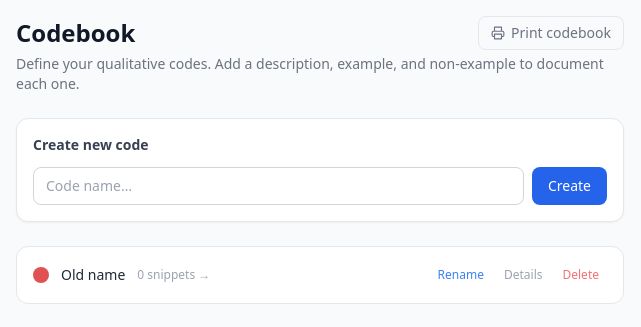
Test: TagManagerView › saves a renamed tag and updates the store
This screenshot has width=641, height=327.
Click the button "Rename" at {"x": 461, "y": 275}, box [430,263,492,287]
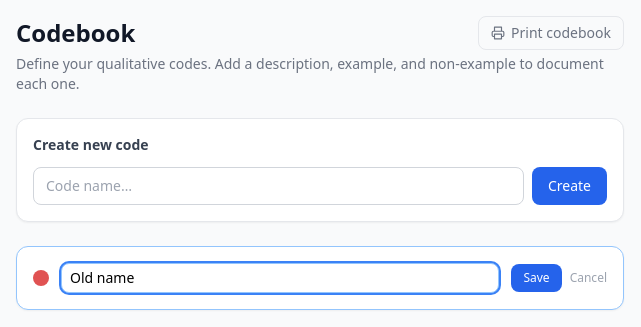
Replace the text in the field showing "Old name" with "New name" at {"x": 280, "y": 278}, box [61,263,500,293]
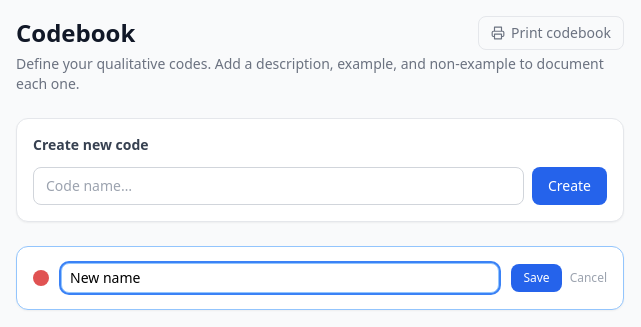
Click the button "Save" at {"x": 537, "y": 278}, box [512,264,562,292]
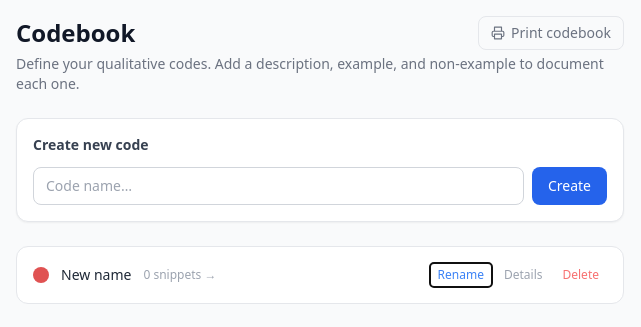
Now the text "New name" is shown, box [61,265,131,285]
